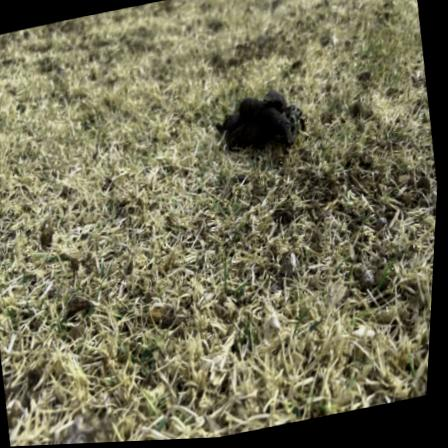dog-poop: (216, 85, 305, 157)
